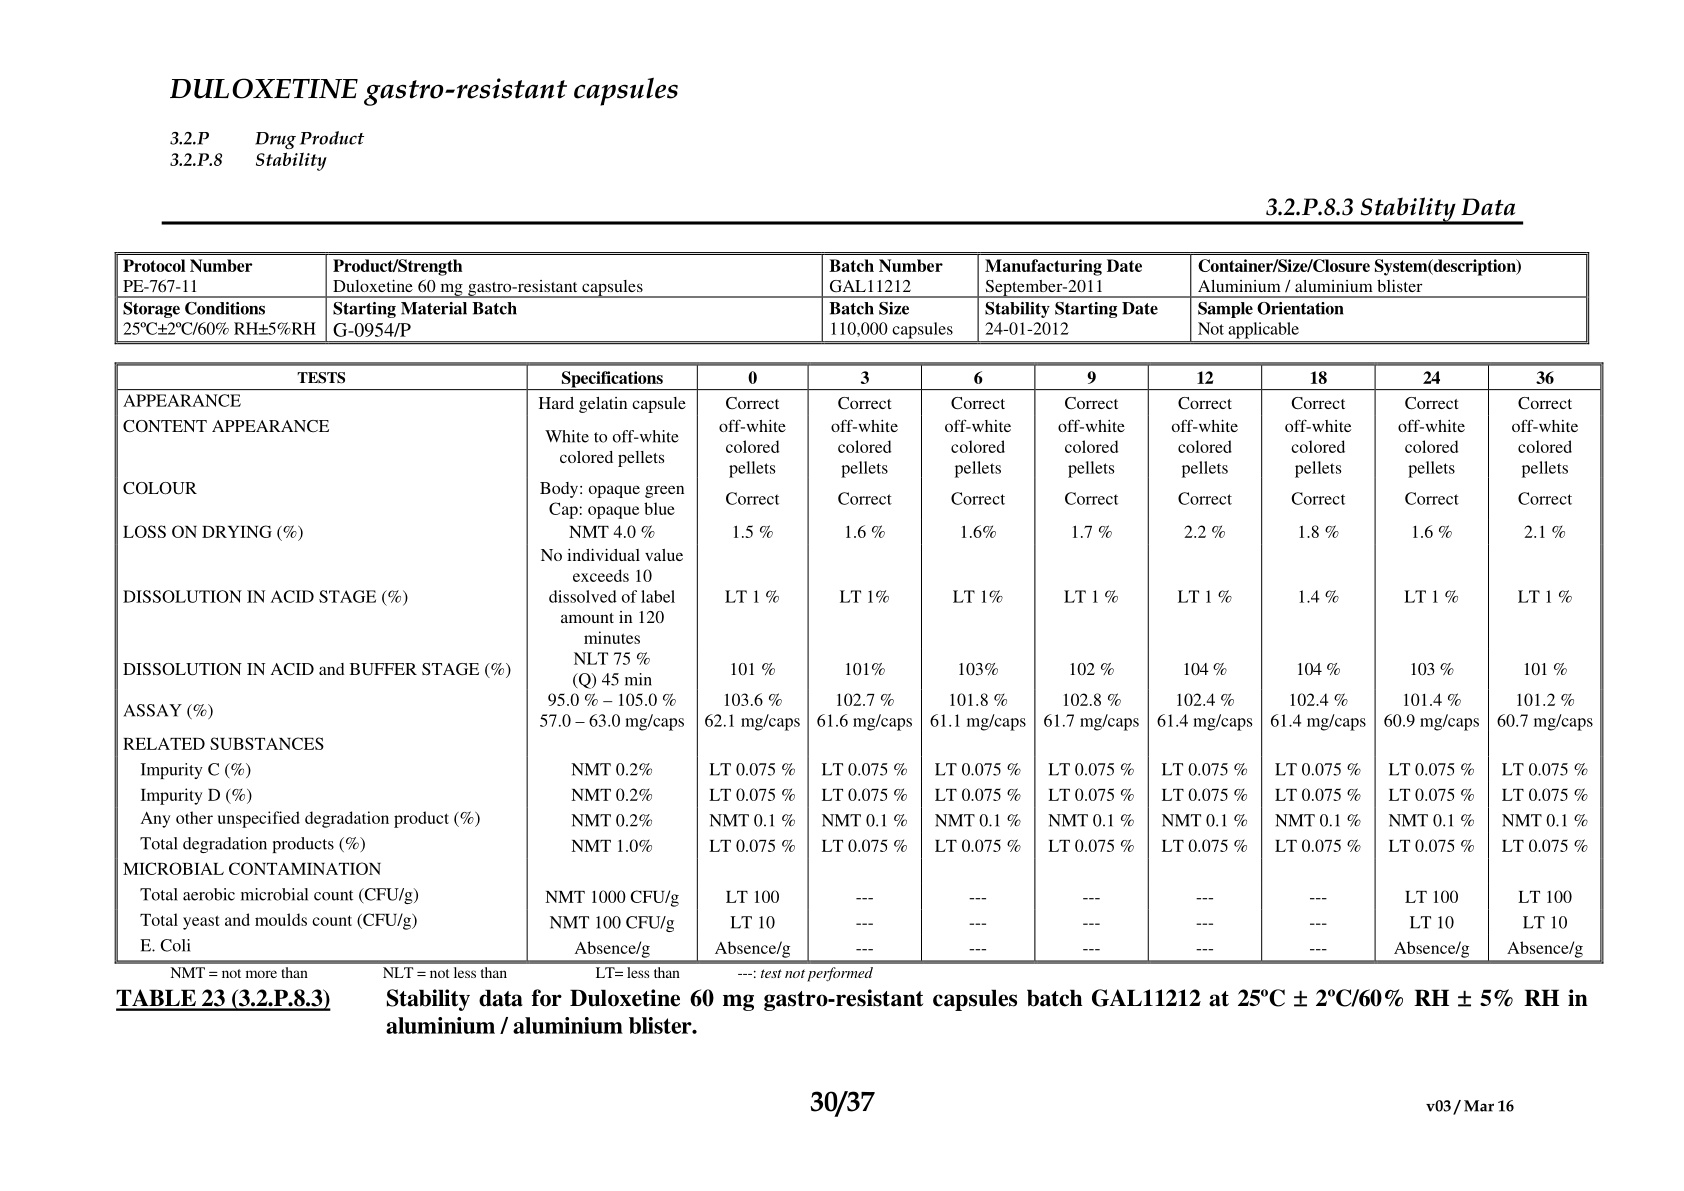full_lined: (113, 251, 1590, 345)
merged_cells: (113, 361, 1604, 965)
